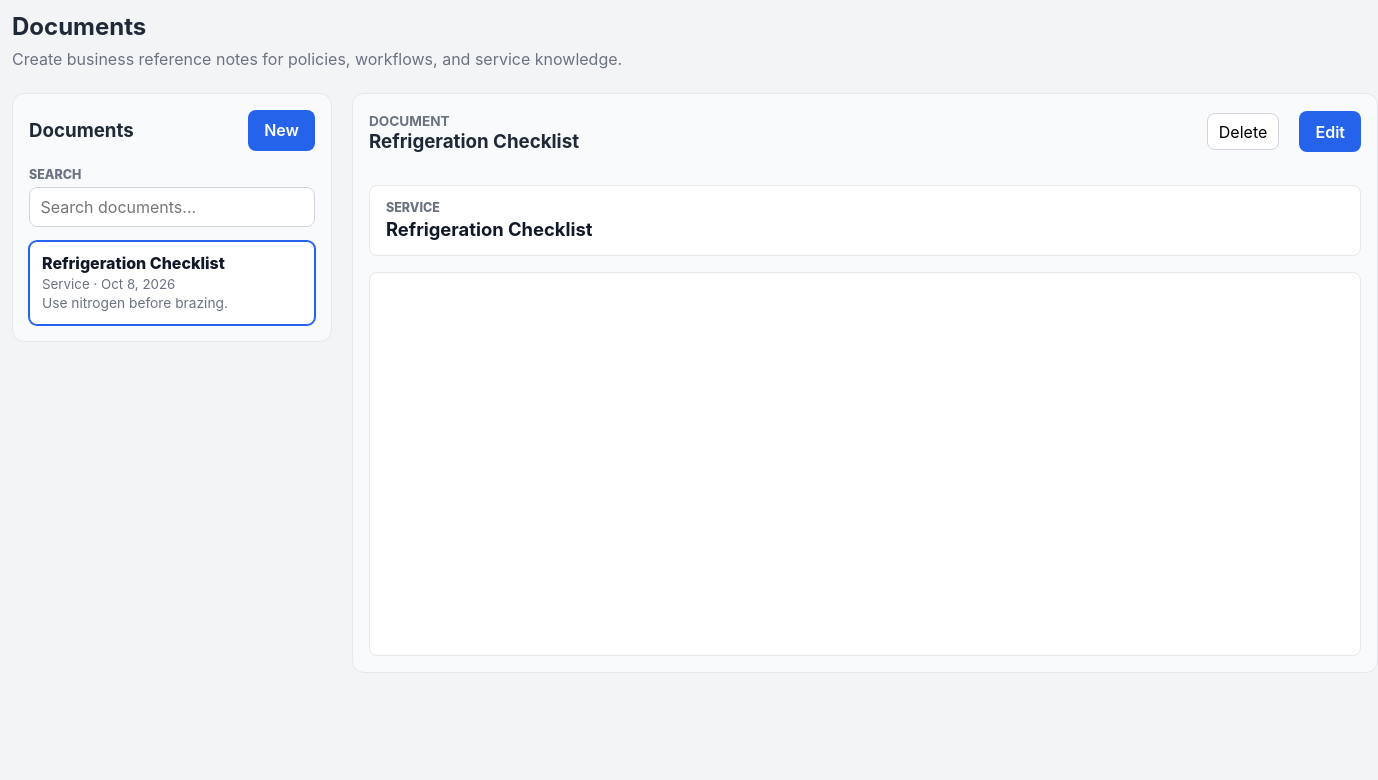
DocumentsPage › loads documents and saves edits through the api
expect the button "Refrigeration Checklist" is shown: met, box [29,241,315,325]
Step 1. Click the button "Edit" → (1330, 132), box [1300,111,1361,152]
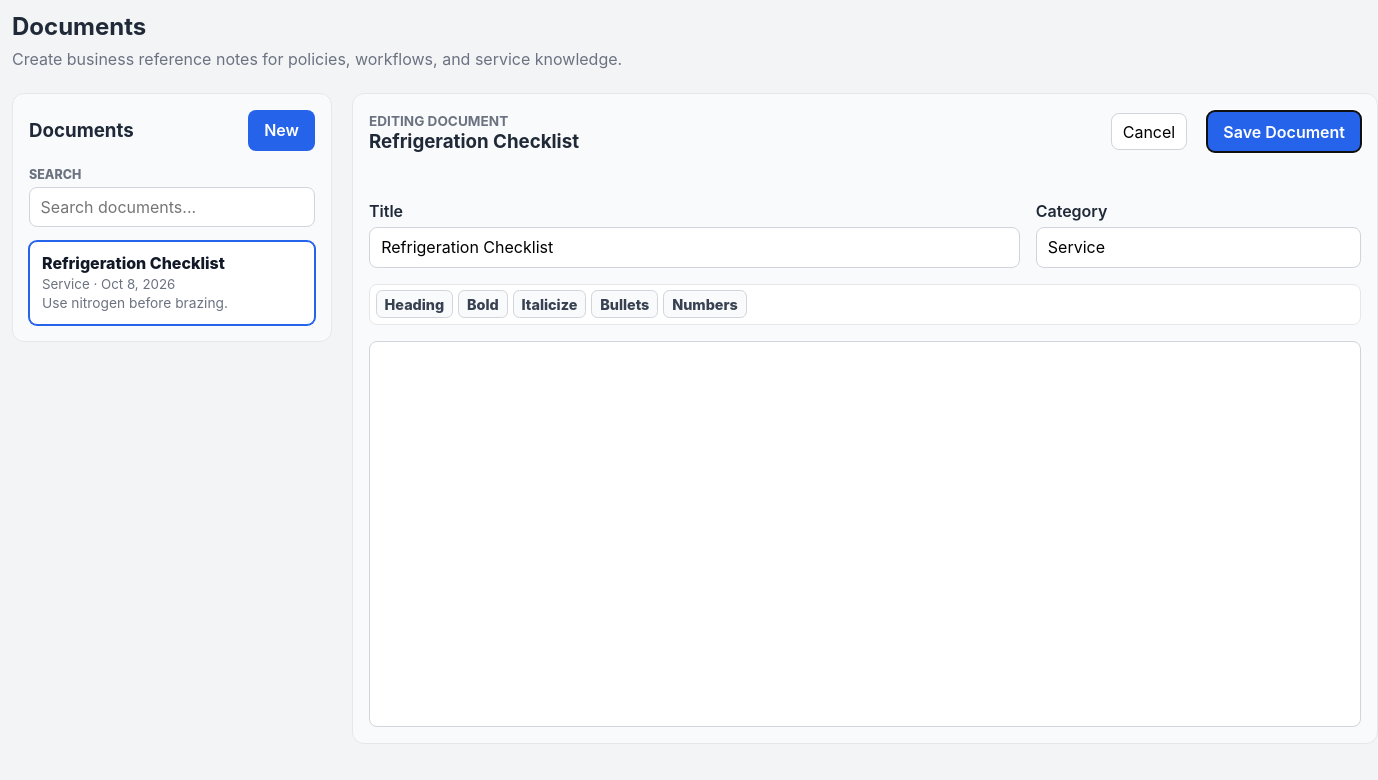
expect the field showing "Refrigeration Checklist" is shown: met
Step 2. Clear the field labelled "Title" → (694, 247), box [369,227,1020,268]
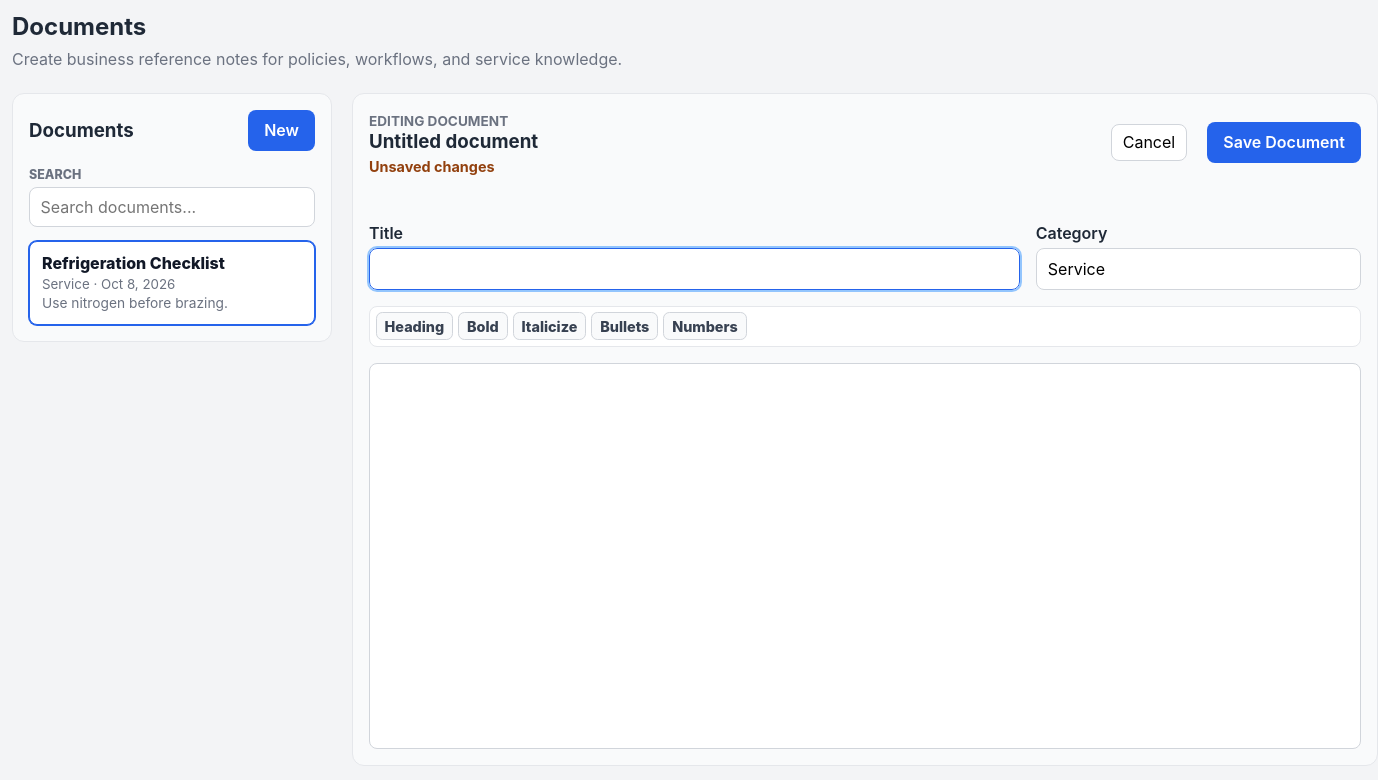
Step 3. Type "Updated Checklist" into the field labelled "Title" → (694, 269), box [369,248,1020,290]
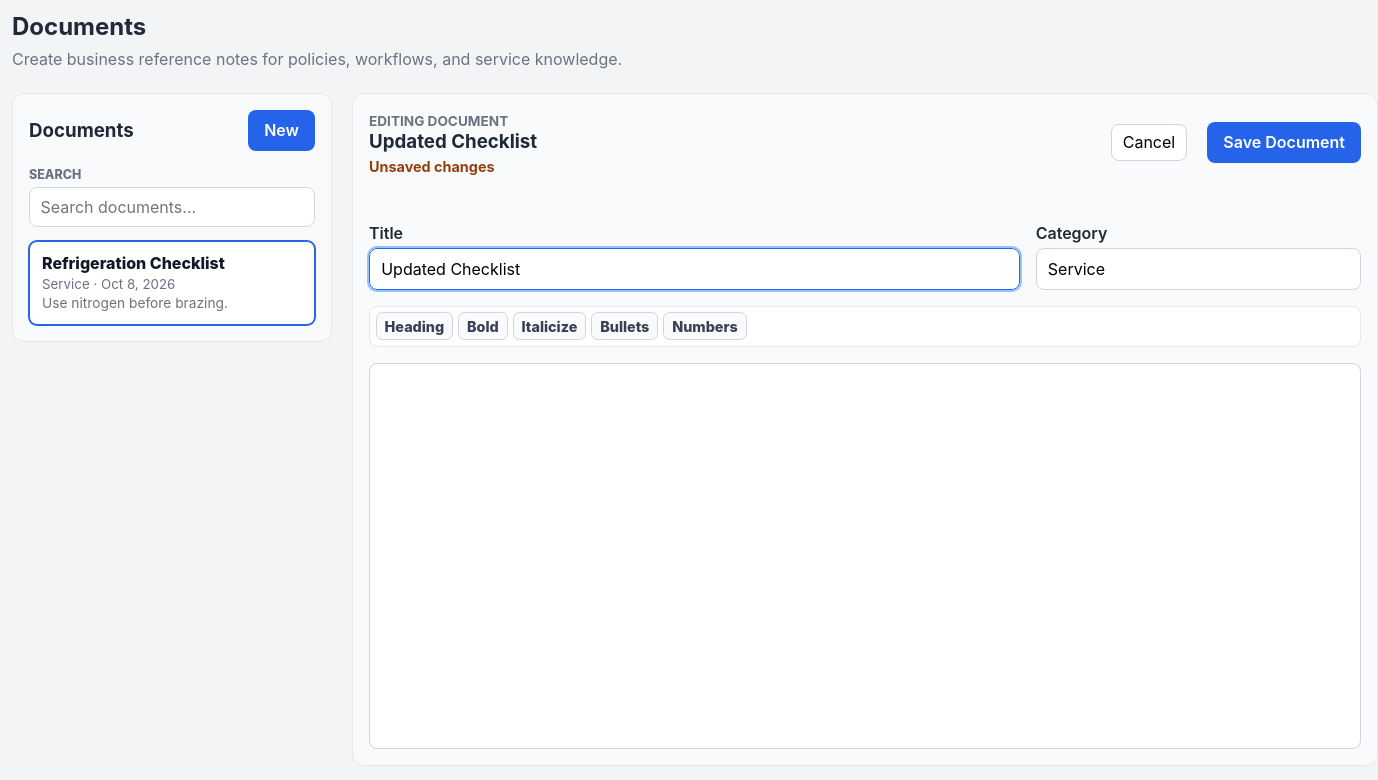
expect the text "Unsaved changes" is shown: met, box [369,158,494,175]
Step 4. Click the button "Save Document" → (1284, 142), box [1207,122,1361,163]
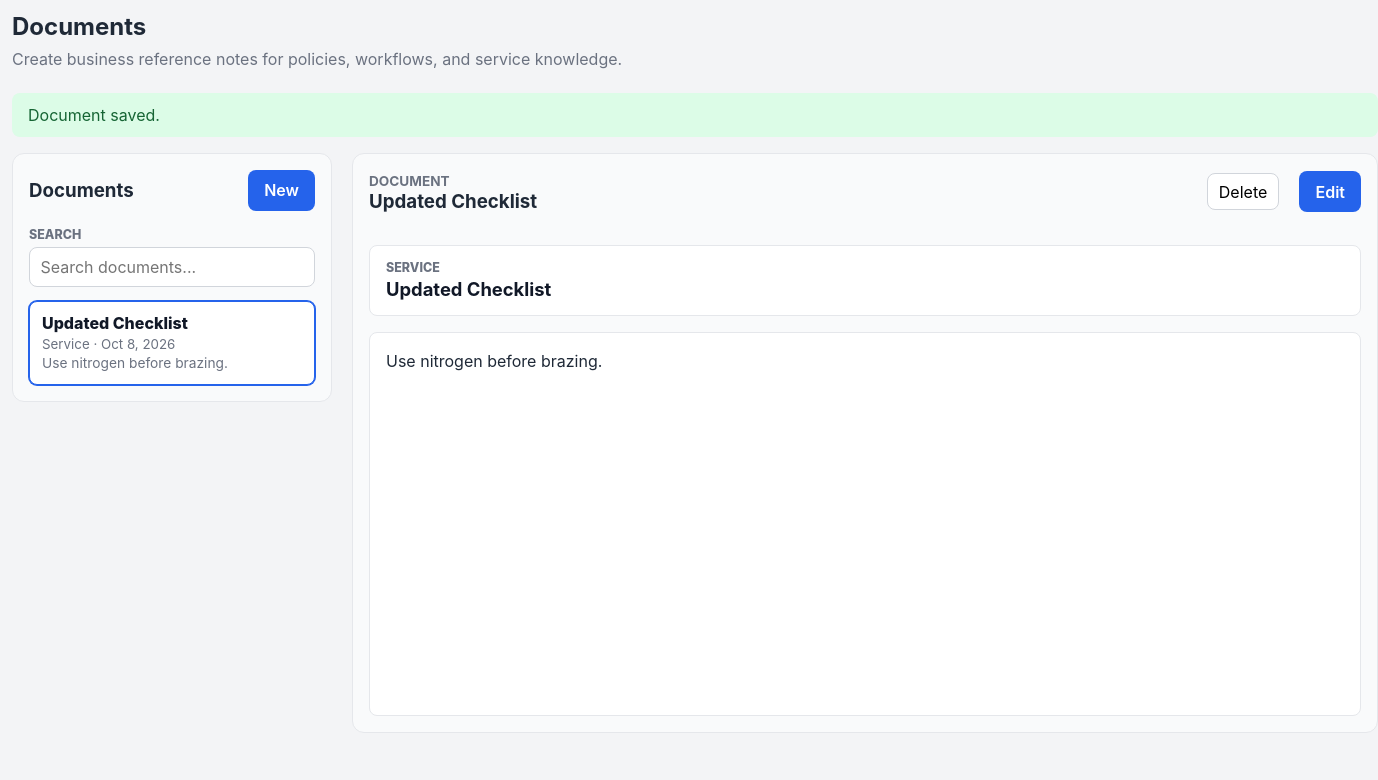
expect the text "Document saved." is shown: met, box [12,93,1377,137]
expect the button "Edit" is shown: met, box [1300,171,1361,212]
